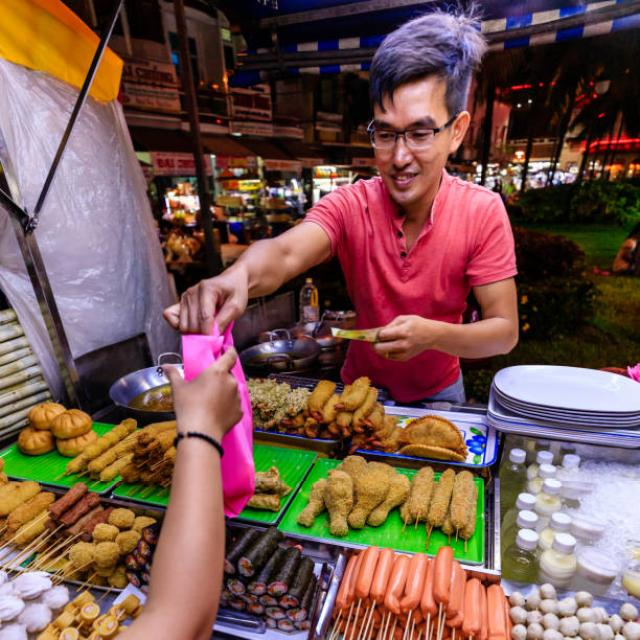Emperan: (0, 188, 639, 640)
